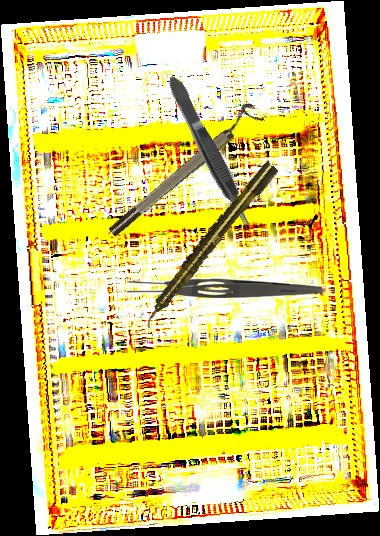Dressing Forceps: (127, 277, 322, 298)
Fixation Ring: (100, 100, 266, 240)
Handpiece: (136, 159, 281, 331)
Tissue Forceps: (164, 71, 258, 235)
